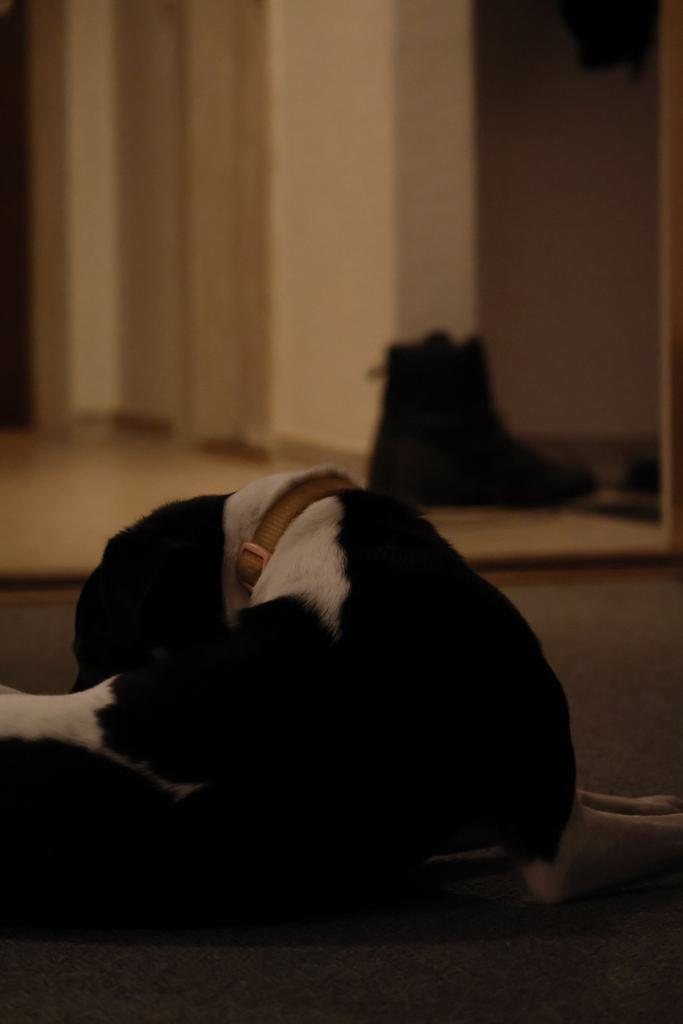Dog: (0, 446, 683, 961)
